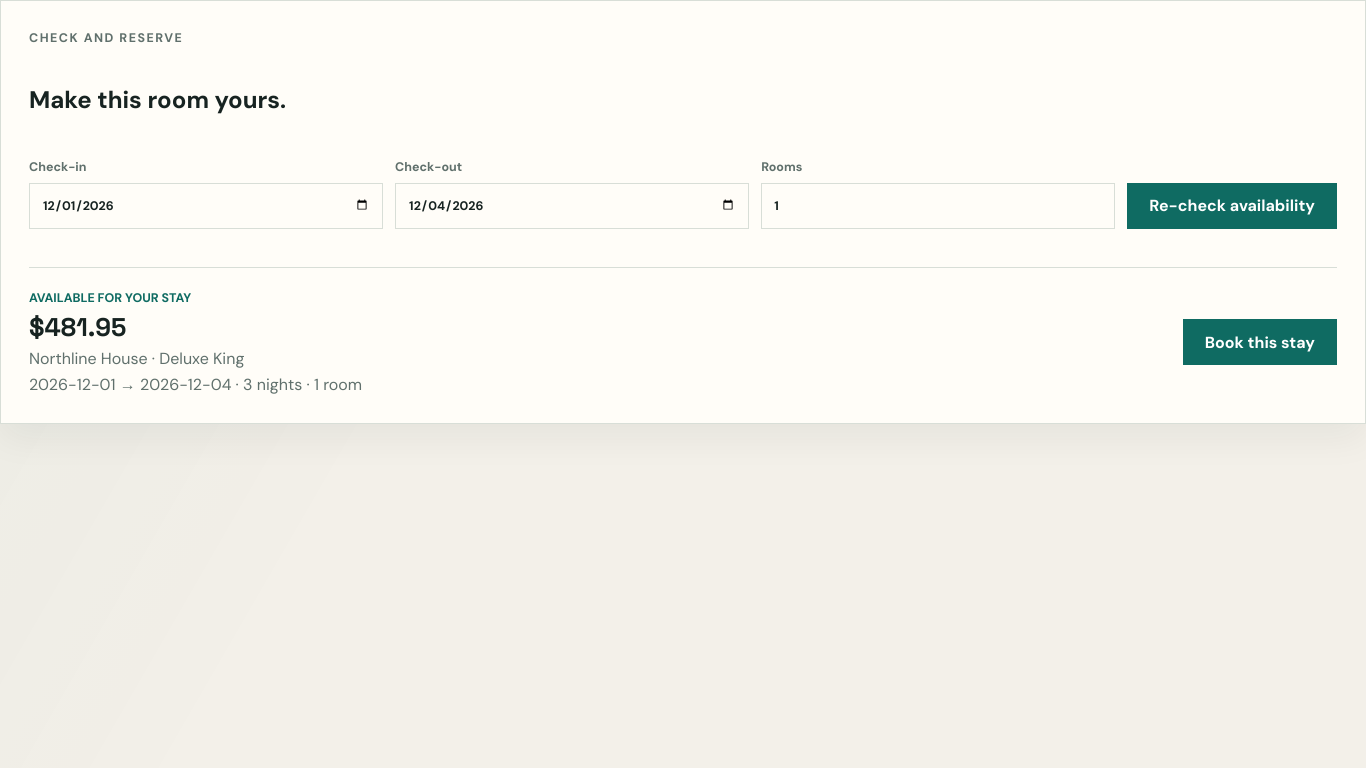
Test case: BookingForm › does not cap the room count at the guest occupancy of the room type
The width and height of the screenshot is (1366, 768).
Clear the number field labelled "Rooms" at [938, 206], box [761,182,1115,228]
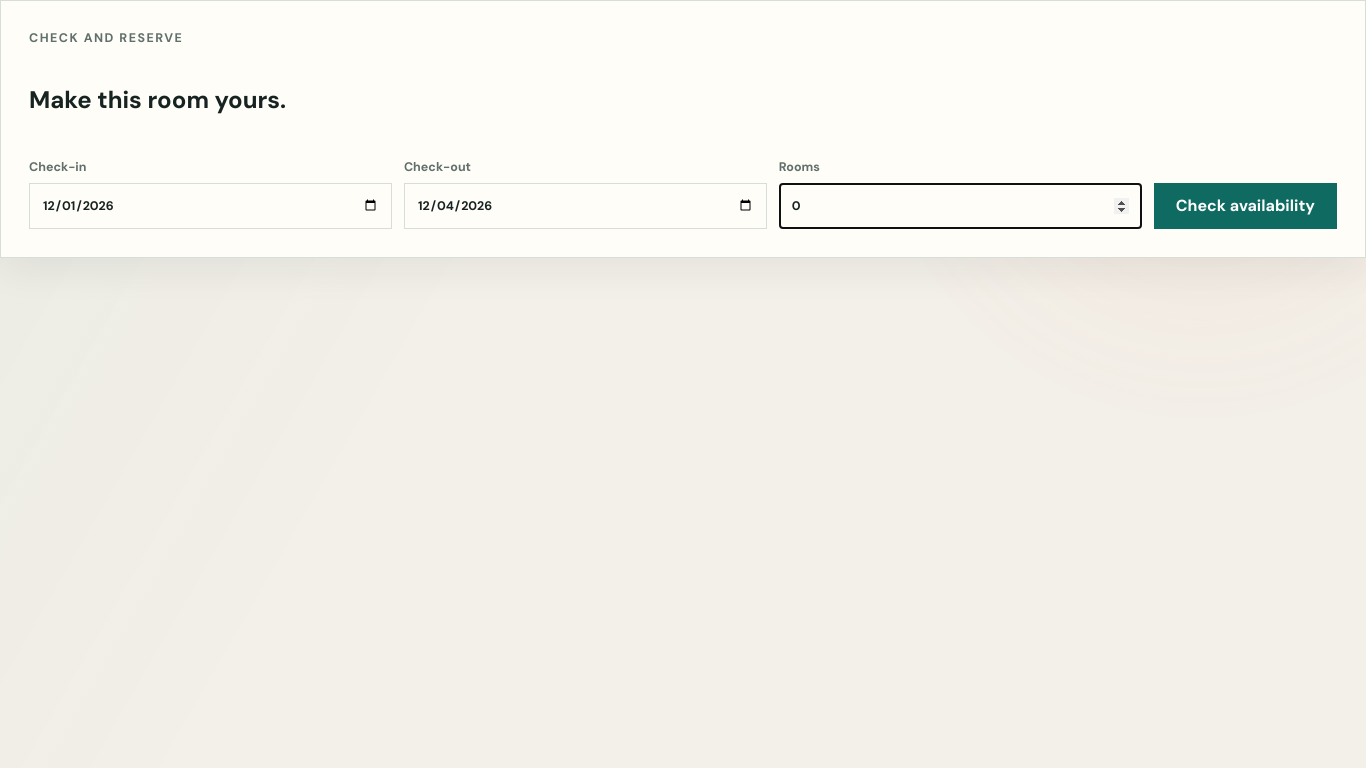
Type "3" into the number field labelled "Rooms" at [960, 206], box [779,182,1142,228]
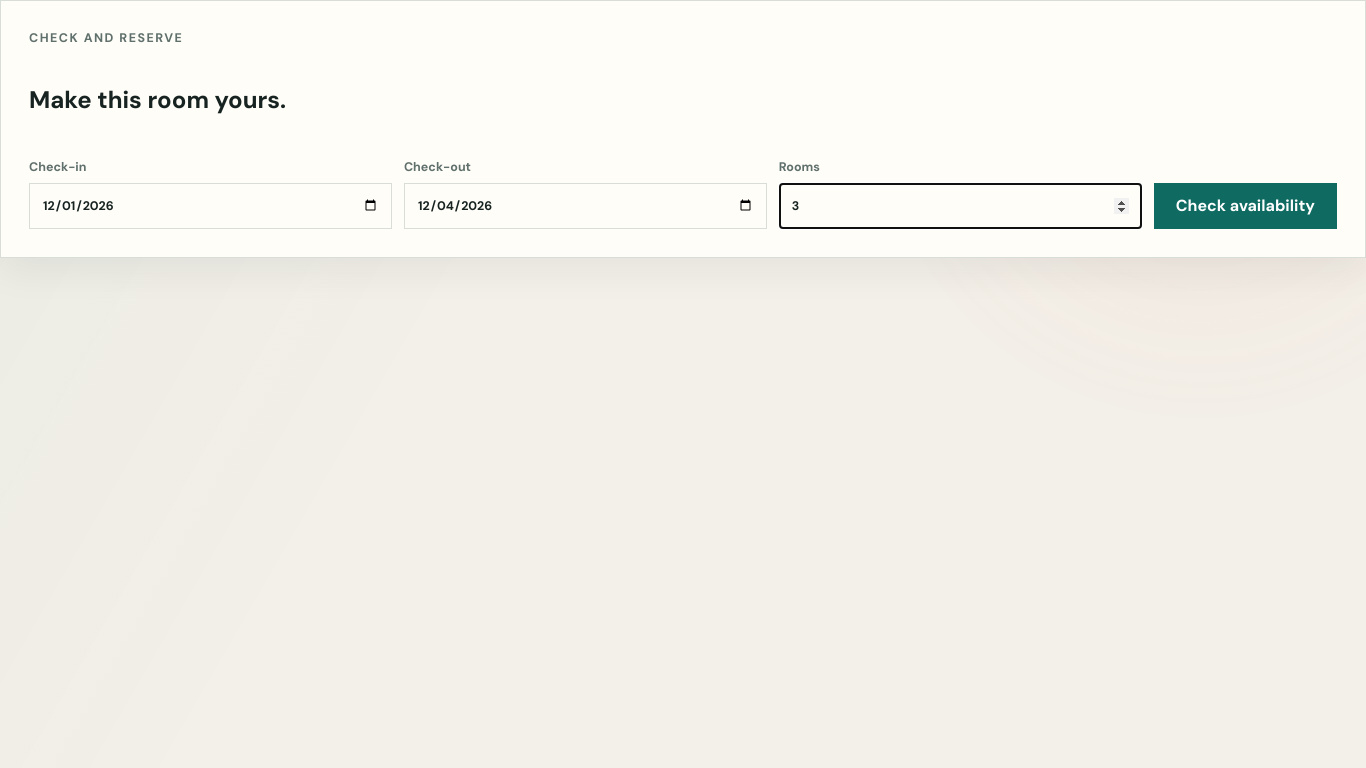
Click the button "Check availability" at [1245, 206], box [1154,182,1337,228]
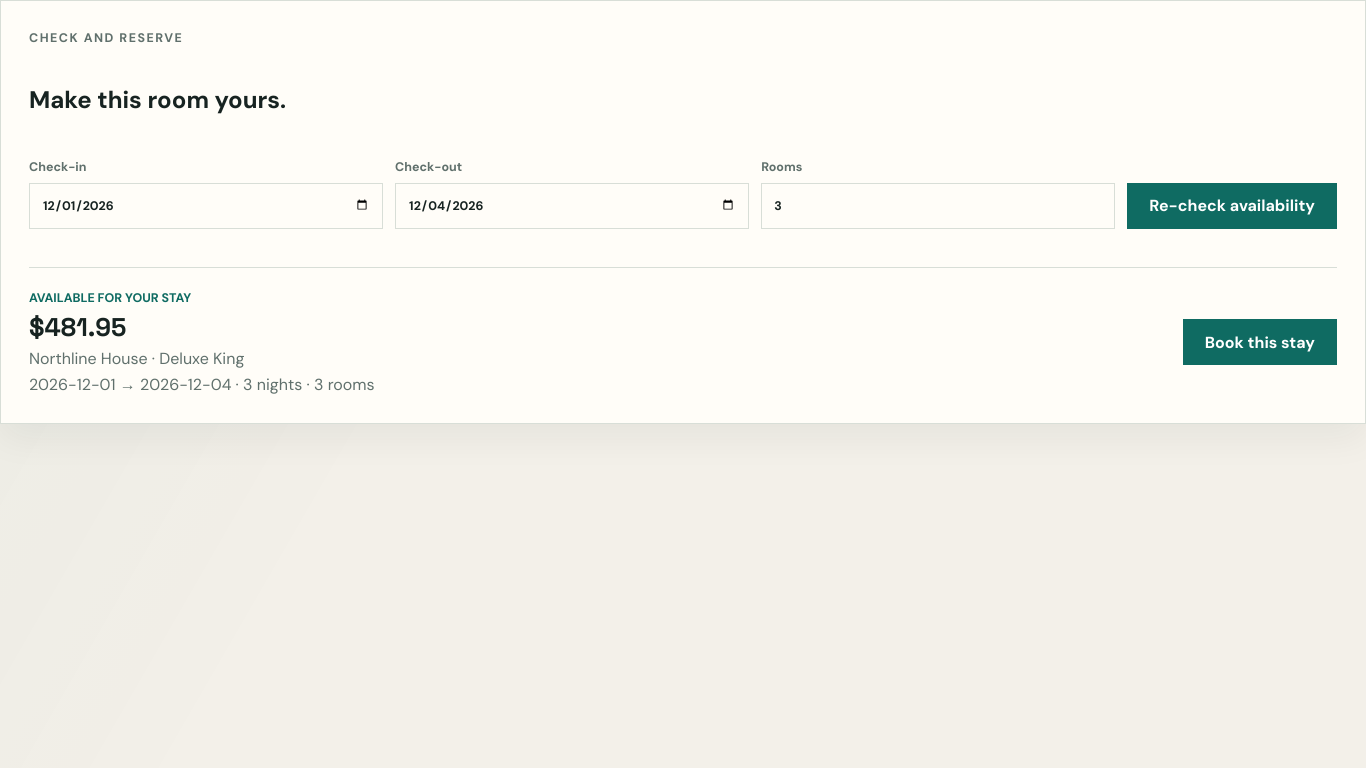
Click the button "Book this stay" at [1260, 342], box [1183,319,1337,365]
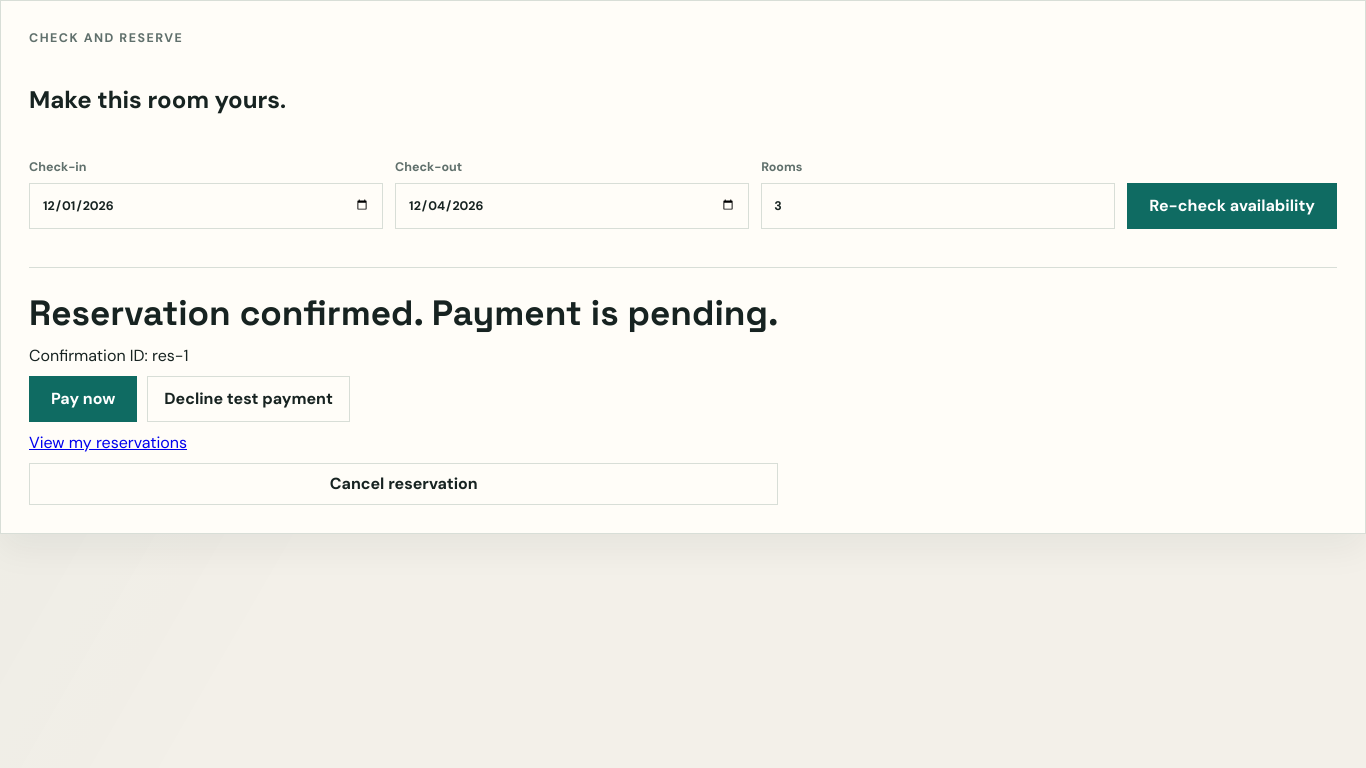
Result: the text "Reservation confirmed. Payment is pending." is shown at [29,290,778,334]
